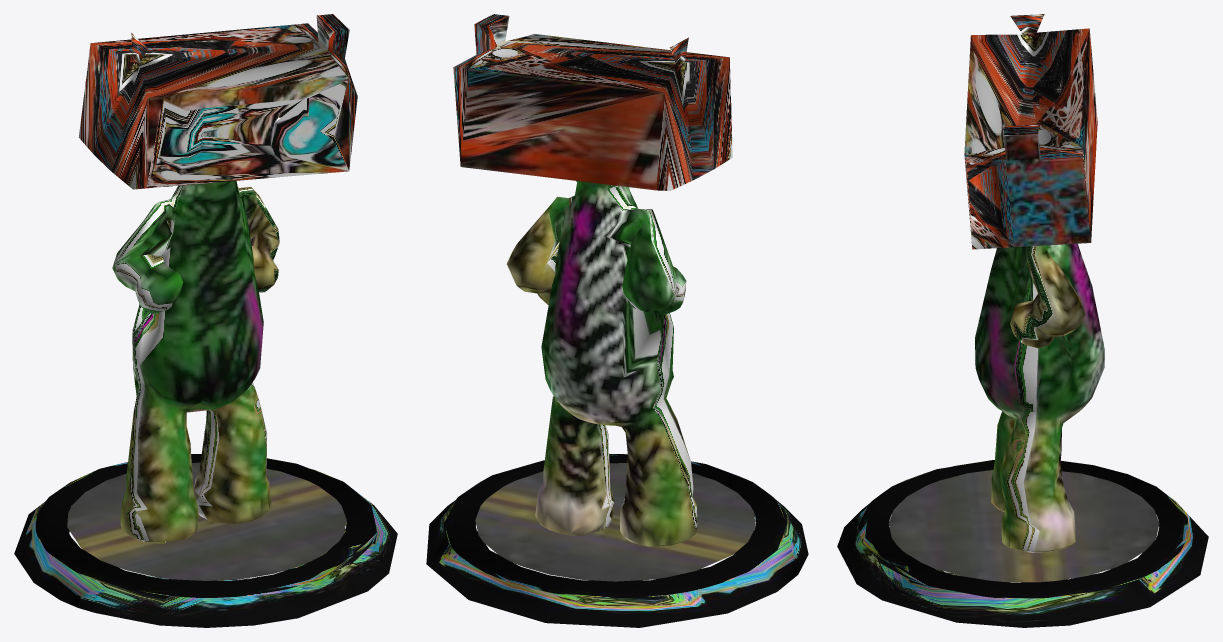
The picture shows the model from 3 angles, left to right: view 1: azimuth 30°, elevation 25°; view 2: azimuth 150°, elevation 25°; view 3: azimuth 270°, elevation 25°; orthographic projection. The views are drawn at different scales.
Size of the model in its own units: 1.45 by 2.16 by 1.44.
4 materials, 4 textured.
